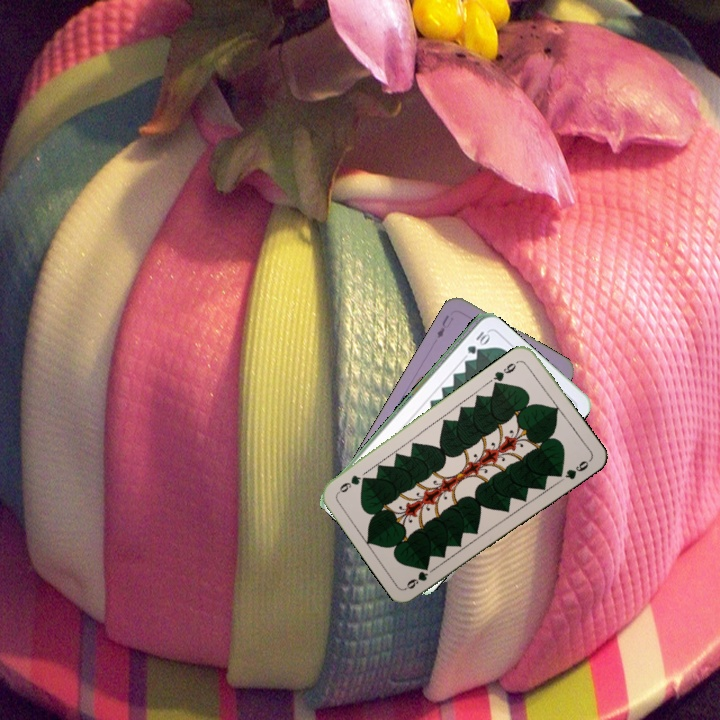EU: (433, 311, 456, 341)
G10: (463, 327, 491, 356)
G9: (489, 356, 522, 388), (402, 567, 431, 592)
